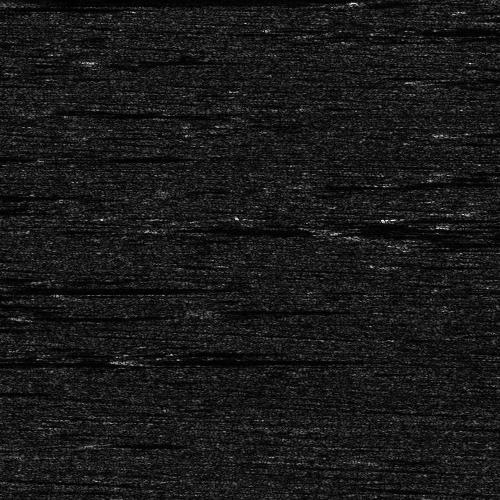object: (171, 305, 244, 314), (416, 221, 499, 228), (122, 355, 175, 364), (0, 279, 12, 296), (393, 215, 434, 218)
shadow: (0, 279, 206, 296), (149, 355, 394, 364), (0, 356, 136, 367), (208, 305, 332, 314), (457, 221, 500, 228), (414, 215, 500, 218)
